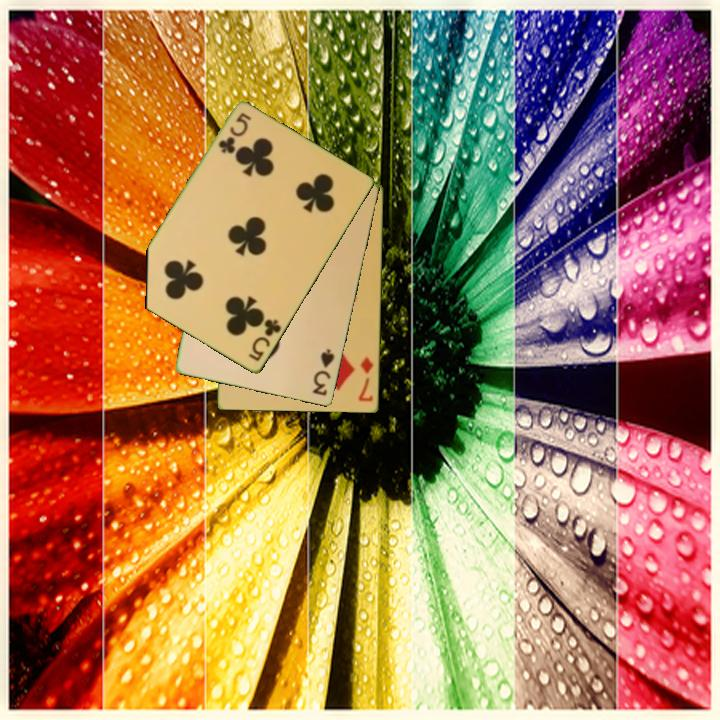3s: (309, 346, 338, 399)
5c: (245, 316, 284, 365), (215, 109, 254, 157)
7d: (355, 354, 376, 404)
